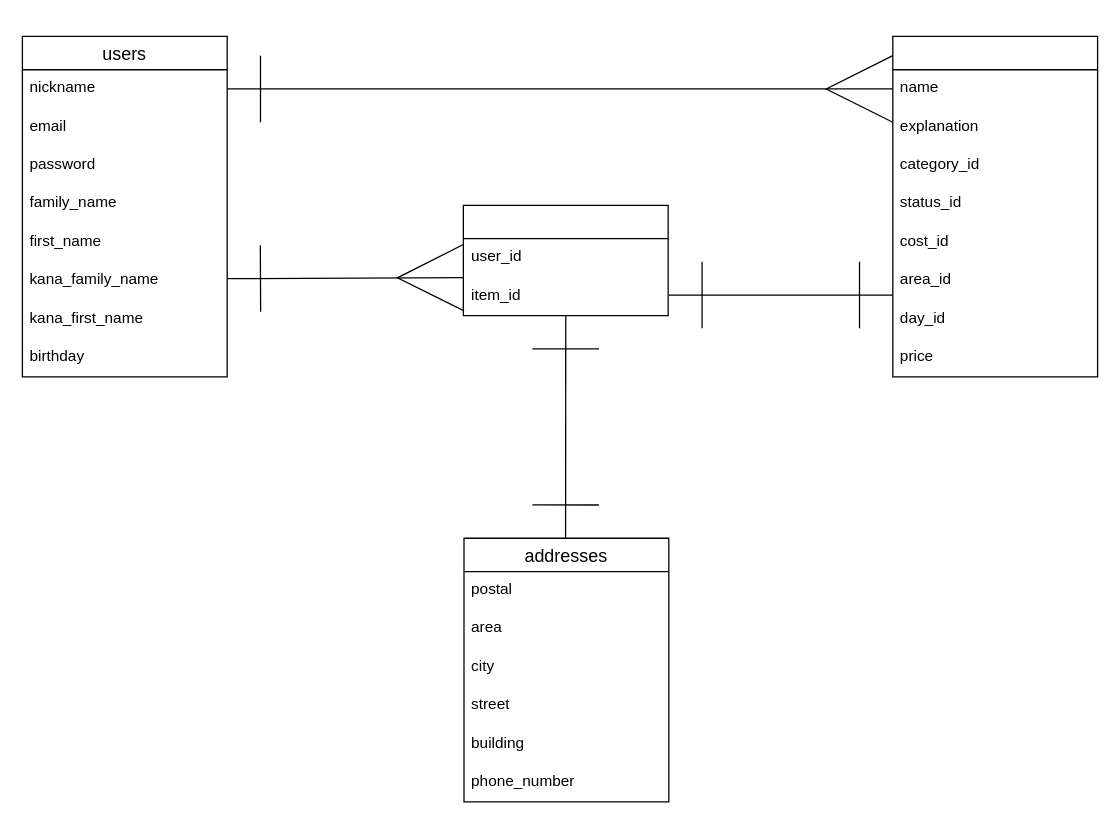
The diagram is 1120 pixels wide and 828 high, and some of its shapes have lost their labels. Here are the shapes that lost their labels. From the top down, the box of each, then its label:
(892, 35, 1098, 377): items
(462, 204, 668, 316): purchases
